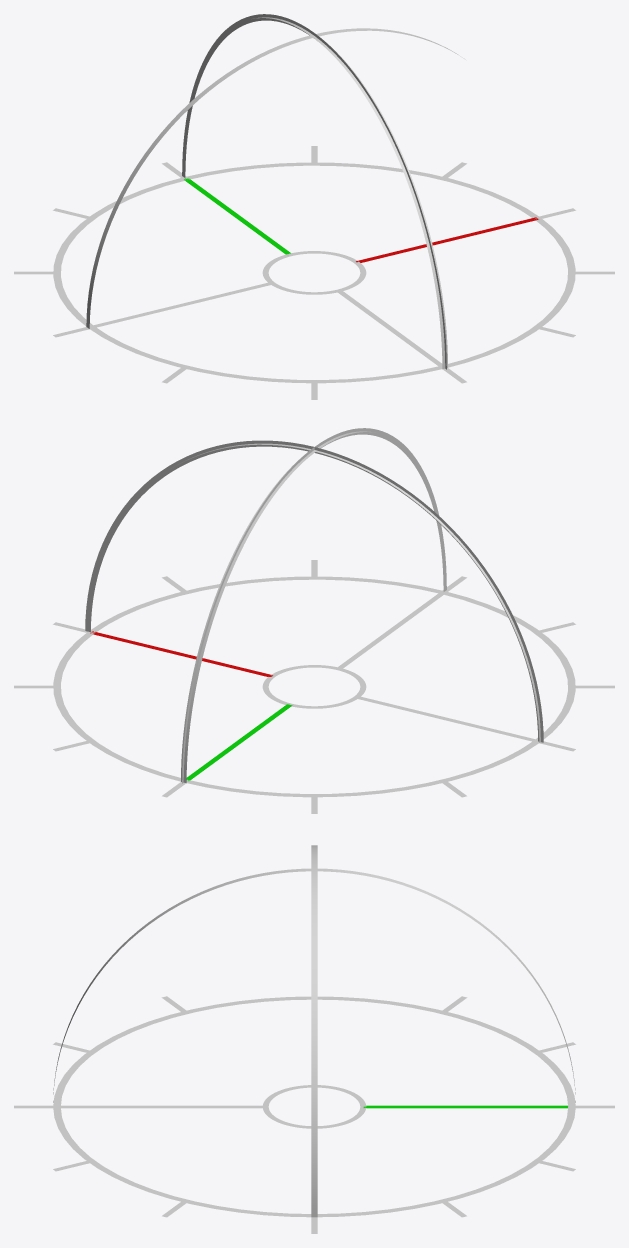
File: gizmo_sun.glb
3 views of the same model, one above another, from view 1: azimuth 30°, elevation 25°; view 2: azimuth 150°, elevation 25°; view 3: azimuth 270°, elevation 25° (orthographic).
Parts seen in each view (by area): view 1: Plane; view 2: Plane; view 3: Plane.
Boxes of the visible parts, <box> form: Plane: <box>14,14,614,399</box>; Plane: <box>14,428,614,813</box>; Plane: <box>14,845,614,1233</box>.
Size of the model in its own units: 2.3 by 1.01 by 2.3.
